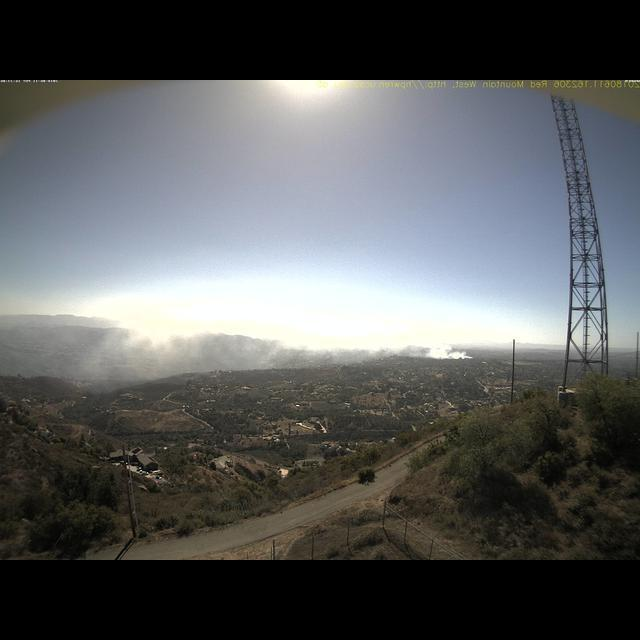Smoke: (73, 316, 476, 384)
